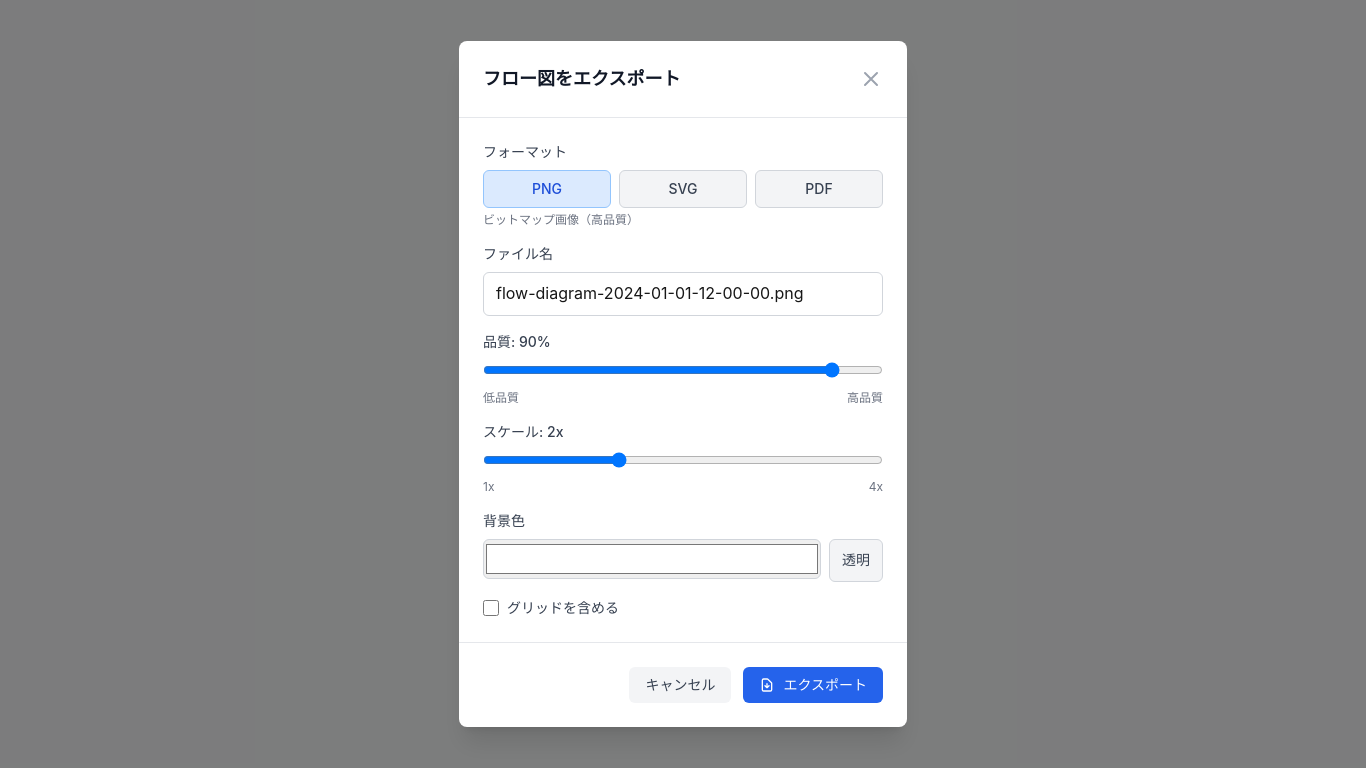
Test: ExportDialog › shows quality slider for PNG format
The width and height of the screenshot is (1366, 768).
Expected: the text "品質: 90%" is shown, [483,333,551,350]
Note: Switch to SVG
Click the button "SVG": [683, 189] box [619,170,747,208]
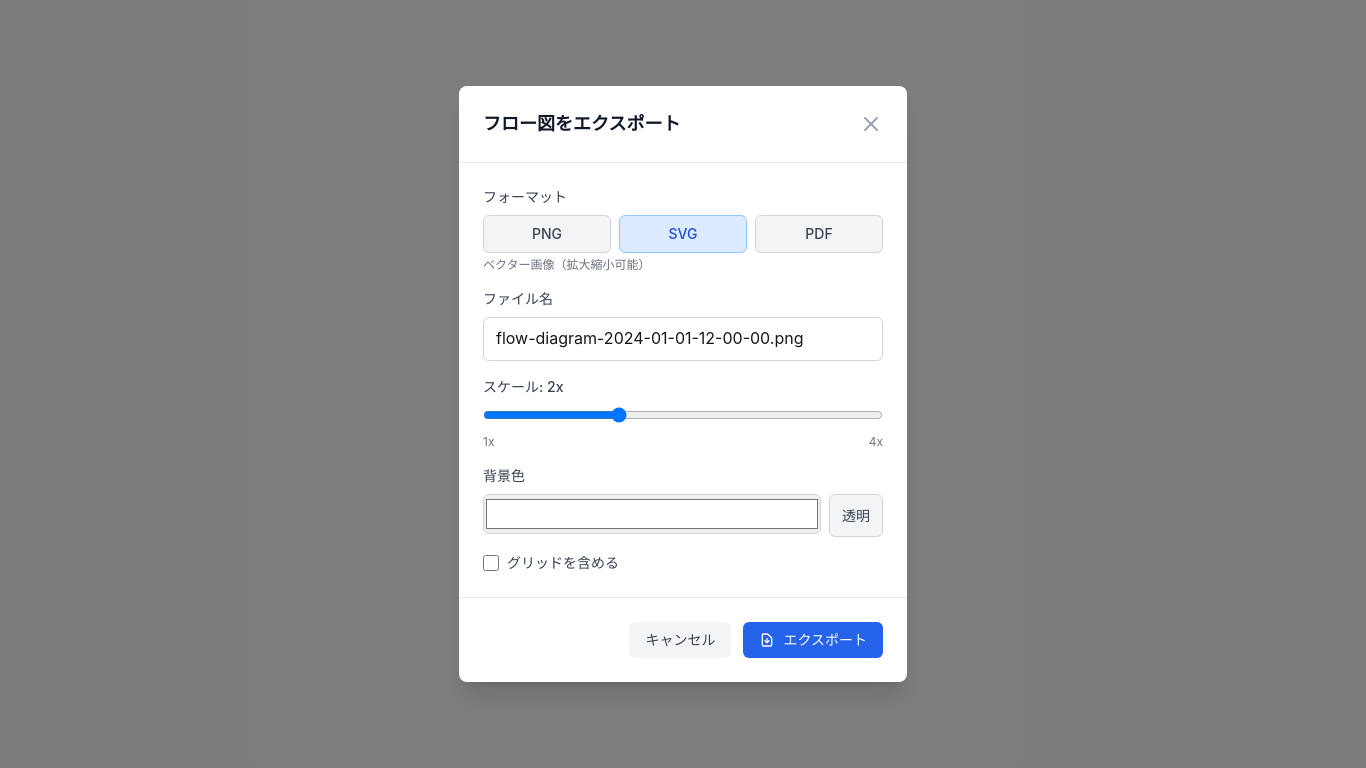
Expected: the text "品質:" is gone
